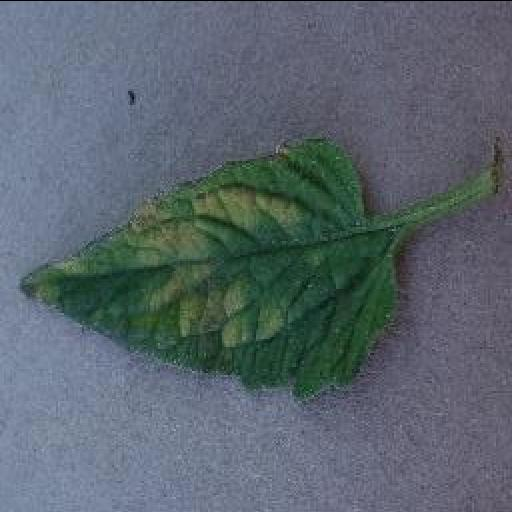disease_tomato: (16, 140, 402, 398)
